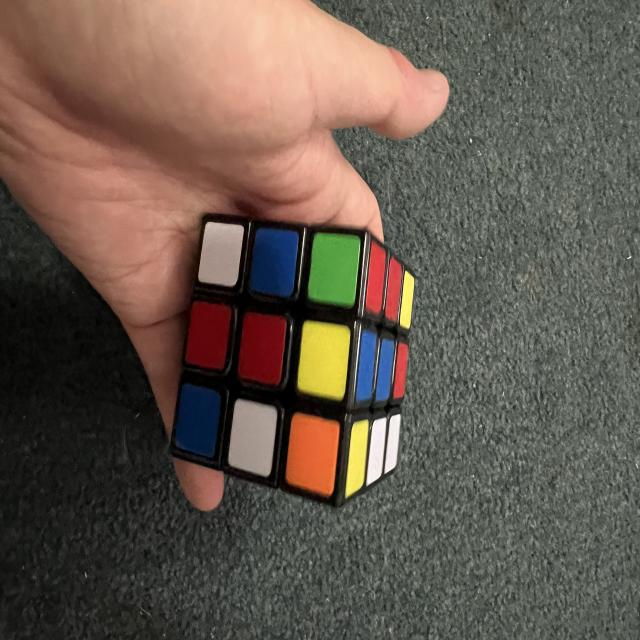blue: (171, 382, 225, 458), (248, 226, 300, 299), (355, 329, 377, 403), (375, 338, 395, 403)
center: (236, 311, 289, 387), (375, 338, 395, 403)
green: (306, 231, 362, 309)
orange: (283, 412, 342, 498)
red: (236, 311, 289, 387), (184, 300, 234, 371), (364, 241, 388, 315), (384, 256, 403, 323), (392, 342, 409, 400)
white: (226, 398, 279, 478), (197, 220, 245, 288), (366, 416, 387, 486), (383, 413, 402, 474)
yellow: (296, 320, 351, 401), (344, 418, 370, 500), (399, 271, 416, 329)
